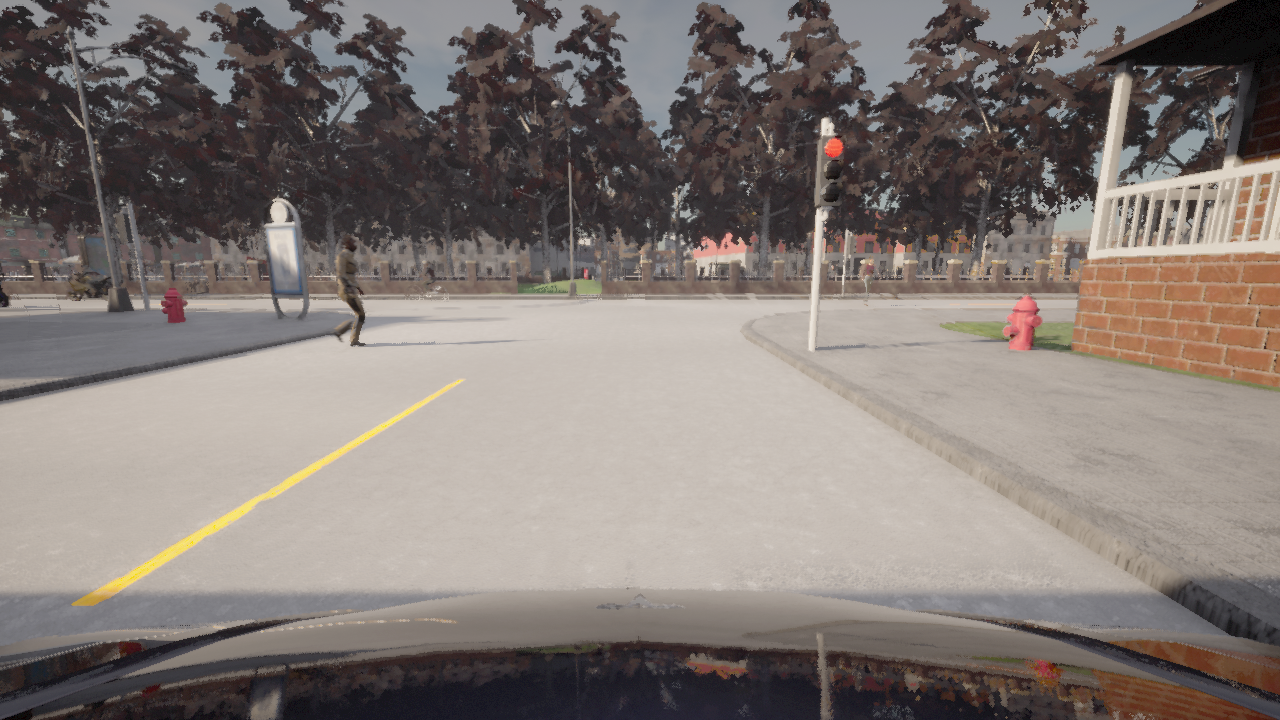cyclist: (0, 588, 1279, 719), (64, 273, 121, 301), (407, 275, 447, 301)
pedestrian: (332, 235, 367, 346), (861, 255, 880, 306)
